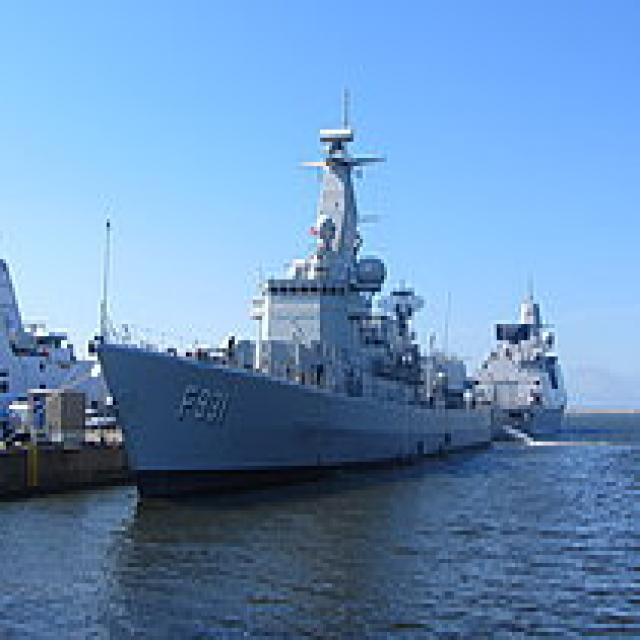Warship: (82, 81, 494, 494), (466, 276, 570, 434)
